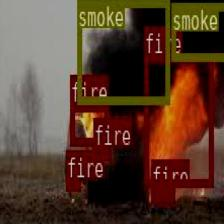fire: (143, 54, 213, 185), (70, 102, 109, 144), (151, 188, 175, 202), (92, 145, 110, 159), (66, 178, 80, 190)
smoke: (77, 0, 169, 103), (171, 2, 224, 59)
